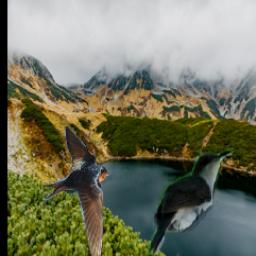Cuckoo: (147, 149, 233, 256)
Swallow: (42, 124, 110, 256)
